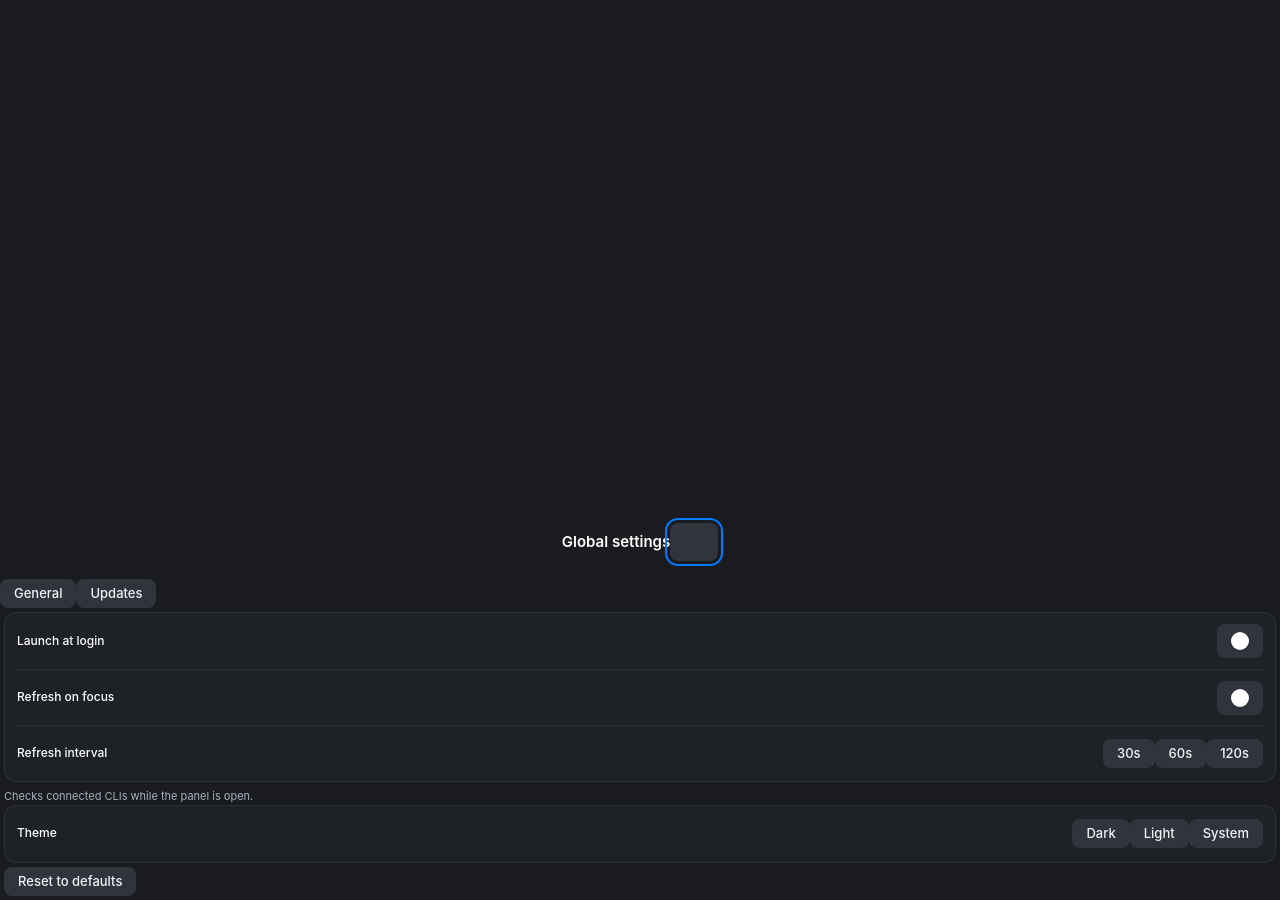
Test: SettingsModal updates › offers download and skip with release notes when an update exists
(page scrolled)
Click the tab "Updates". click: click(116, 594)
box: top-left (76, 579), bottom-right (156, 608)
(page scrolled)
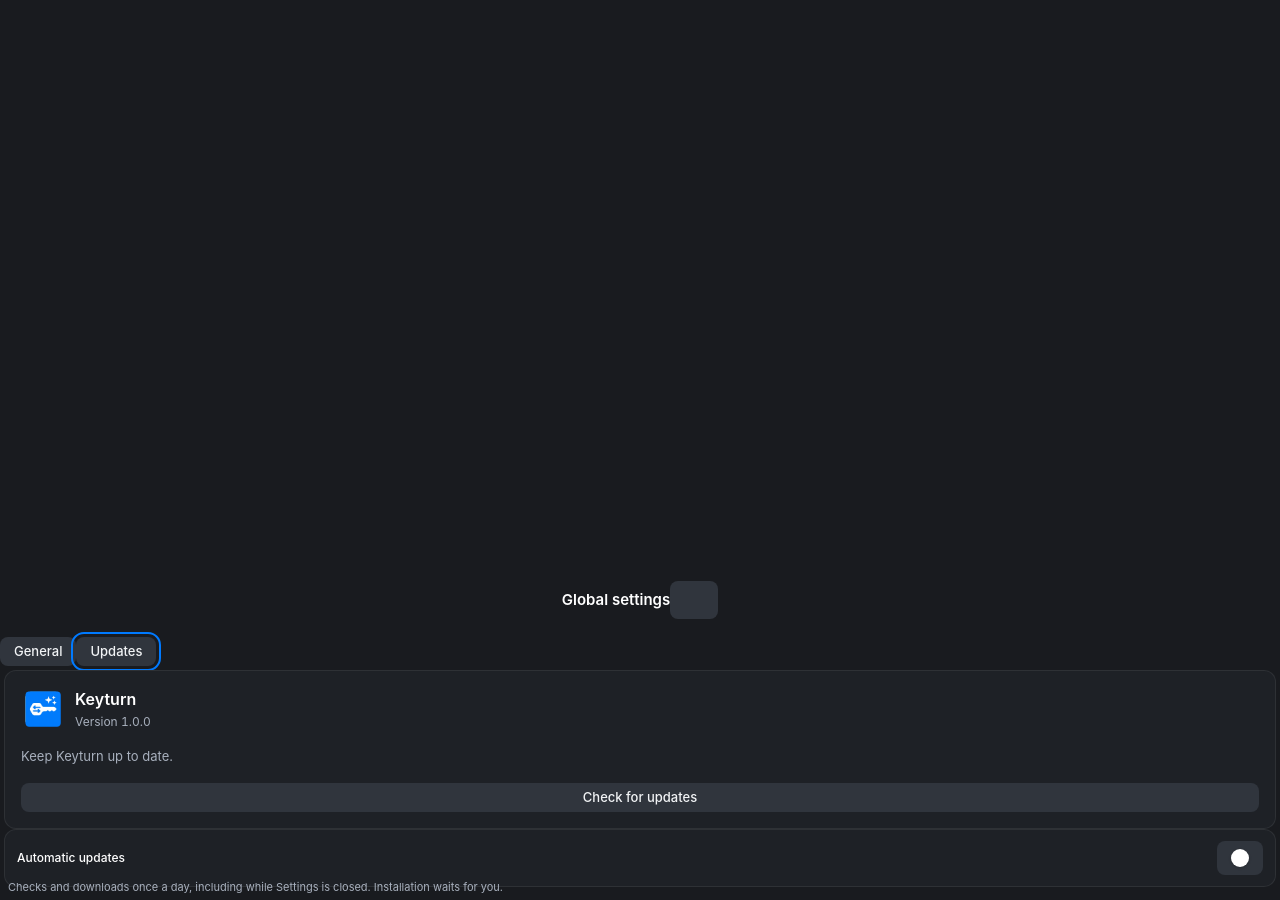
Click the button "Check for updates". click: click(640, 798)
box: top-left (21, 783), bottom-right (1259, 812)
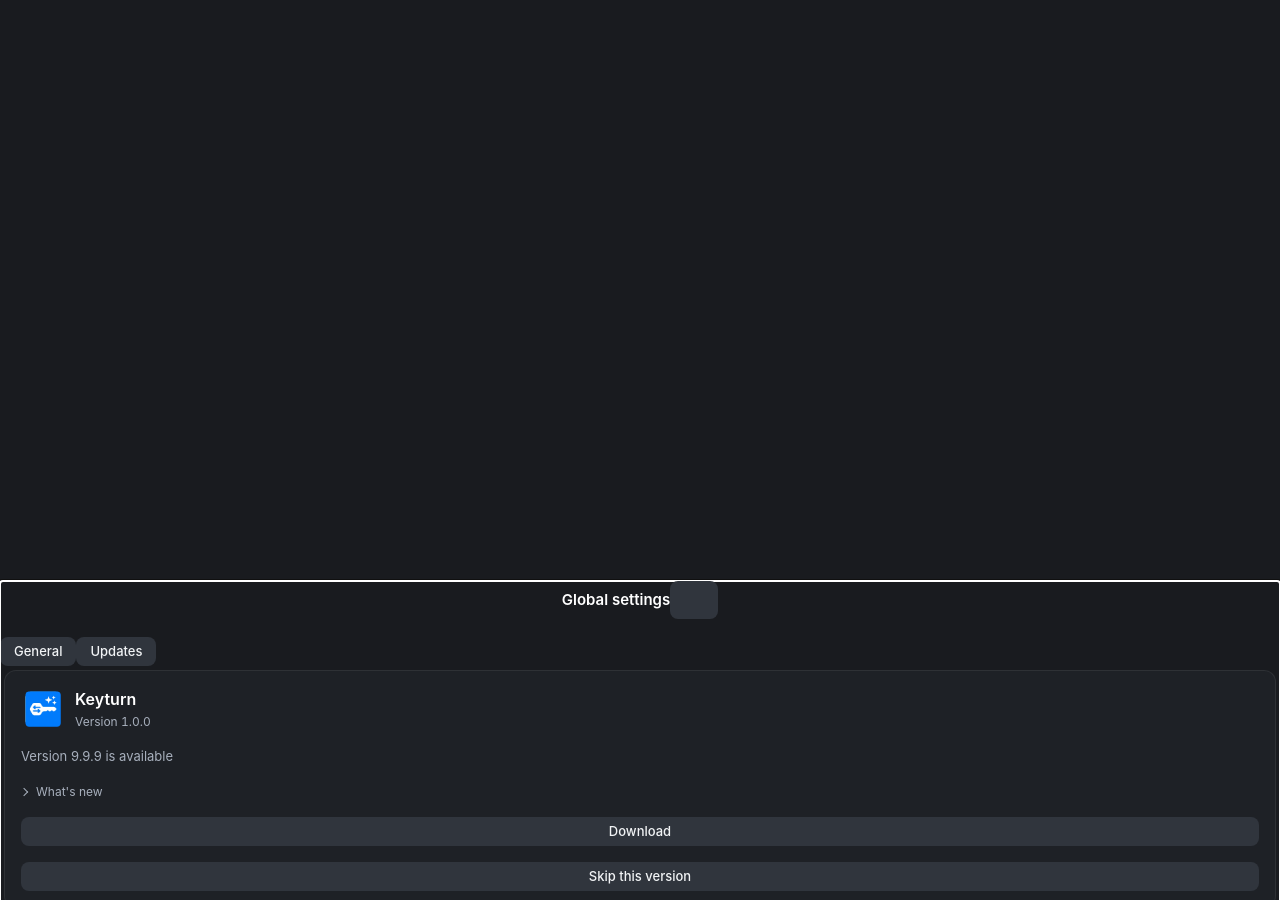
Expected: the text "Version 9.9.9 is available" is shown, top-left (21, 747), bottom-right (173, 767)
Expected: the button "Download" is shown, top-left (21, 817), bottom-right (1259, 846)
Expected: the button "Skip this version" is shown, top-left (21, 862), bottom-right (1259, 891)
